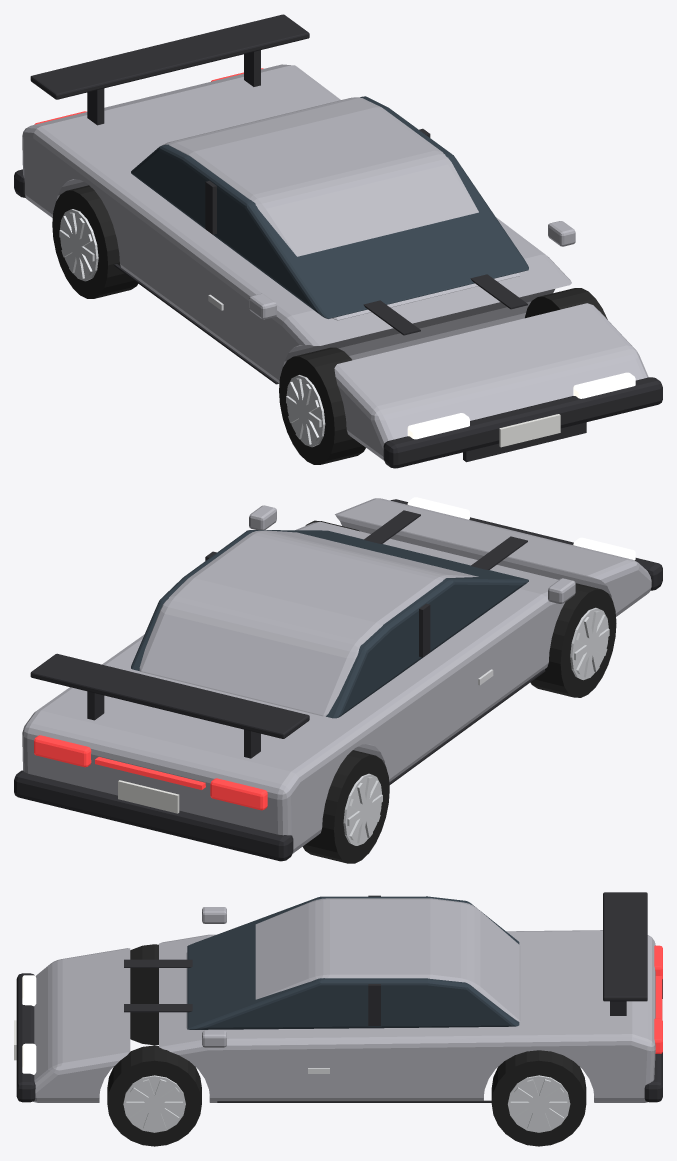
Rendered from sports.glb.
3 views of the same model, one above another, from view 1: azimuth 30°, elevation 25°; view 2: azimuth 150°, elevation 25°; view 3: azimuth 270°, elevation 25° (orthographic). The views are drawn at different scales.
Visible parts, largest first — view 1: e, e.002, Cube, Cylinder, Cylinder.001, Cube.008, Cube.016; view 2: e, Cube, e.002, Cylinder, Cylinder.001, Cube.009, Cube.008, Cube.016; view 3: e, e.002, Cylinder, Cube, Cylinder.001, Cube.009, Cube.008.
Part boxes in pixels (x1=…): e: x1=22, y1=64, x2=648, y2=460; e.002: x1=131, y1=96, x2=528, y2=318; Cube: x1=14, y1=14, x2=662, y2=468; Cylinder: x1=52, y1=185, x2=607, y2=464; Cylinder.001: x1=59, y1=209, x2=325, y2=447; Cube.008: x1=407, y1=372, x2=635, y2=439; Cube.016: x1=499, y1=414, x2=560, y2=447; e: x1=22, y1=498, x2=651, y2=853; Cube: x1=14, y1=499, x2=662, y2=861; e.002: x1=131, y1=530, x2=528, y2=718; Cylinder: x1=302, y1=520, x2=616, y2=863; Cylinder.001: x1=343, y1=607, x2=609, y2=845; Cube.009: x1=34, y1=735, x2=267, y2=810; Cube.008: x1=407, y1=497, x2=635, y2=560; Cube.016: x1=118, y1=780, x2=179, y2=813; e: x1=33, y1=898, x2=655, y2=1102; e.002: x1=187, y1=896, x2=519, y2=1029; Cylinder: x1=107, y1=944, x2=586, y2=1146; Cube: x1=16, y1=892, x2=662, y2=1102; Cylinder.001: x1=123, y1=1075, x2=570, y2=1132; Cube.009: x1=654, y1=945, x2=662, y2=1053; Cube.008: x1=22, y1=975, x2=36, y2=1074.
Bounding box in the file's own units: 2.21 × 1.2 × 4.66.
